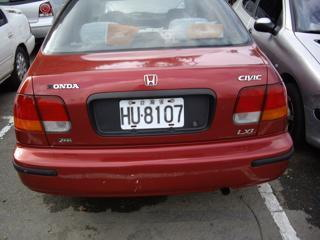plate: (117, 98, 186, 133)
